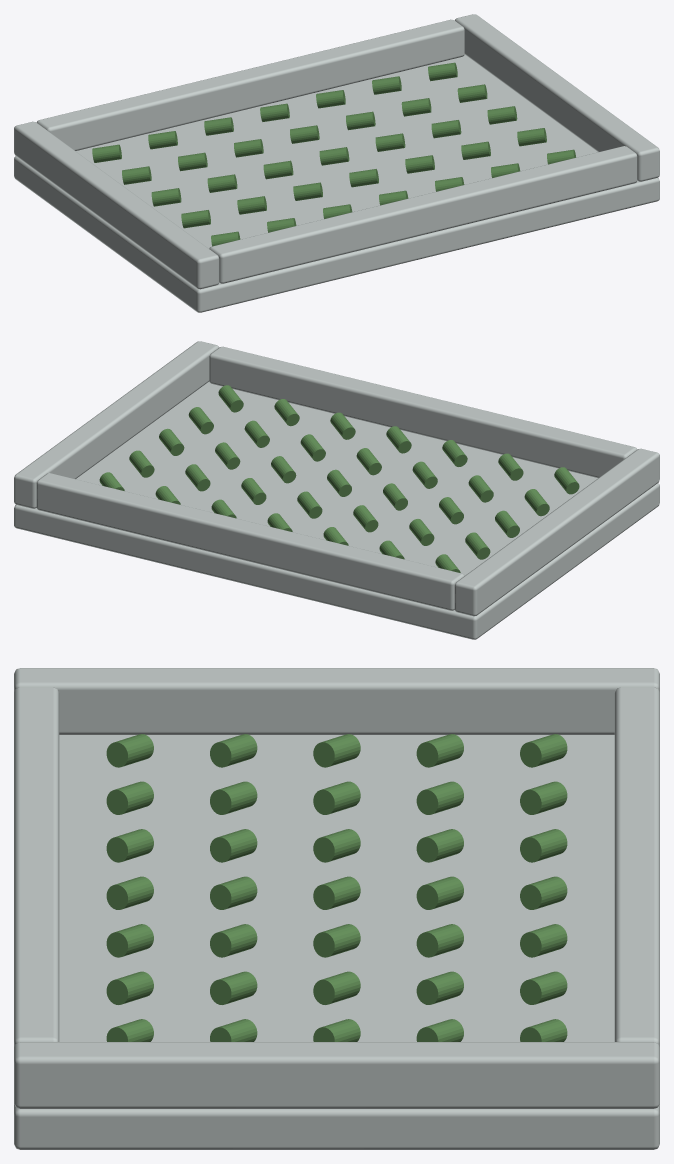
The model's file is tea-garden-and-processing-house-tea-garden-and-process-951effe7__30771.glb.
3 renders of one model, top to bottom at view 1: azimuth 30°, elevation 25°; view 2: azimuth 150°, elevation 25°; view 3: azimuth 270°, elevation 25°, orthographic. The views are drawn at different scales.
Parts seen in each view (by area): view 1: tea-garden-and-processing-house-rolled-leaf-tray; view 2: tea-garden-and-processing-house-rolled-leaf-tray; view 3: tea-garden-and-processing-house-rolled-leaf-tray.
Part boxes in pixels (x1,y1,x2,y2): tea-garden-and-processing-house-rolled-leaf-tray: [14, 14, 659, 312]; tea-garden-and-processing-house-rolled-leaf-tray: [14, 341, 659, 639]; tea-garden-and-processing-house-rolled-leaf-tray: [14, 668, 659, 1149].
Size of the model in its own units: 0.72 by 0.08 by 0.5.
